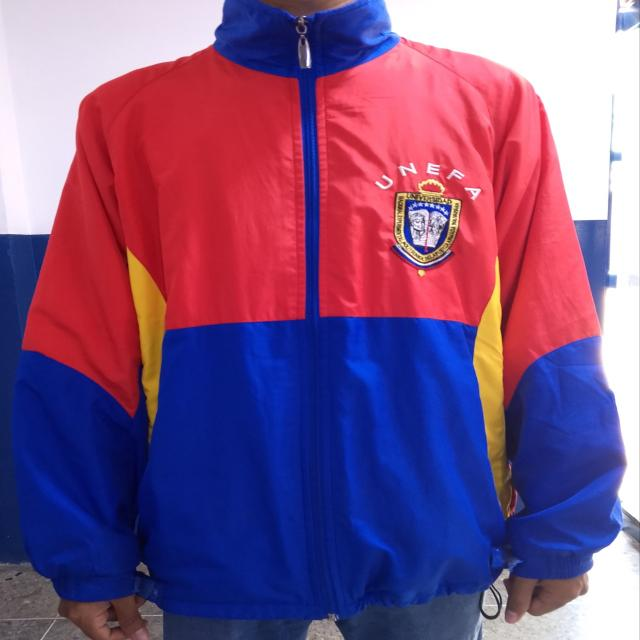chaqueta_unefa: (10, 0, 628, 622)
